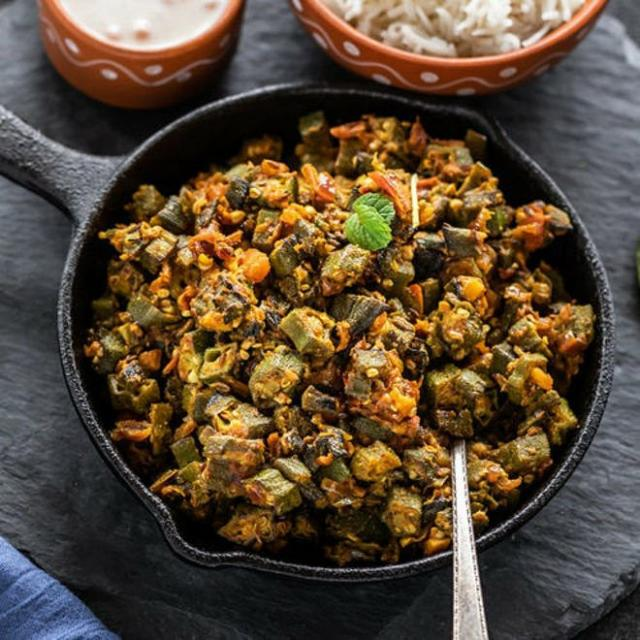BhindiMasala: (80, 108, 594, 564)
rice: (319, 0, 588, 60)
